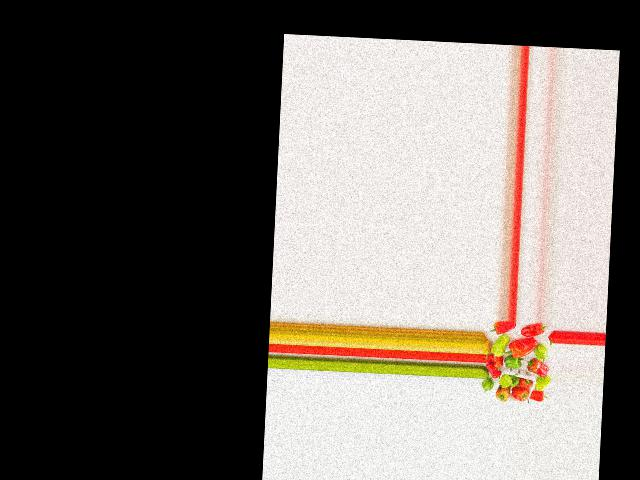bell_pepper: (488, 319, 512, 337)
